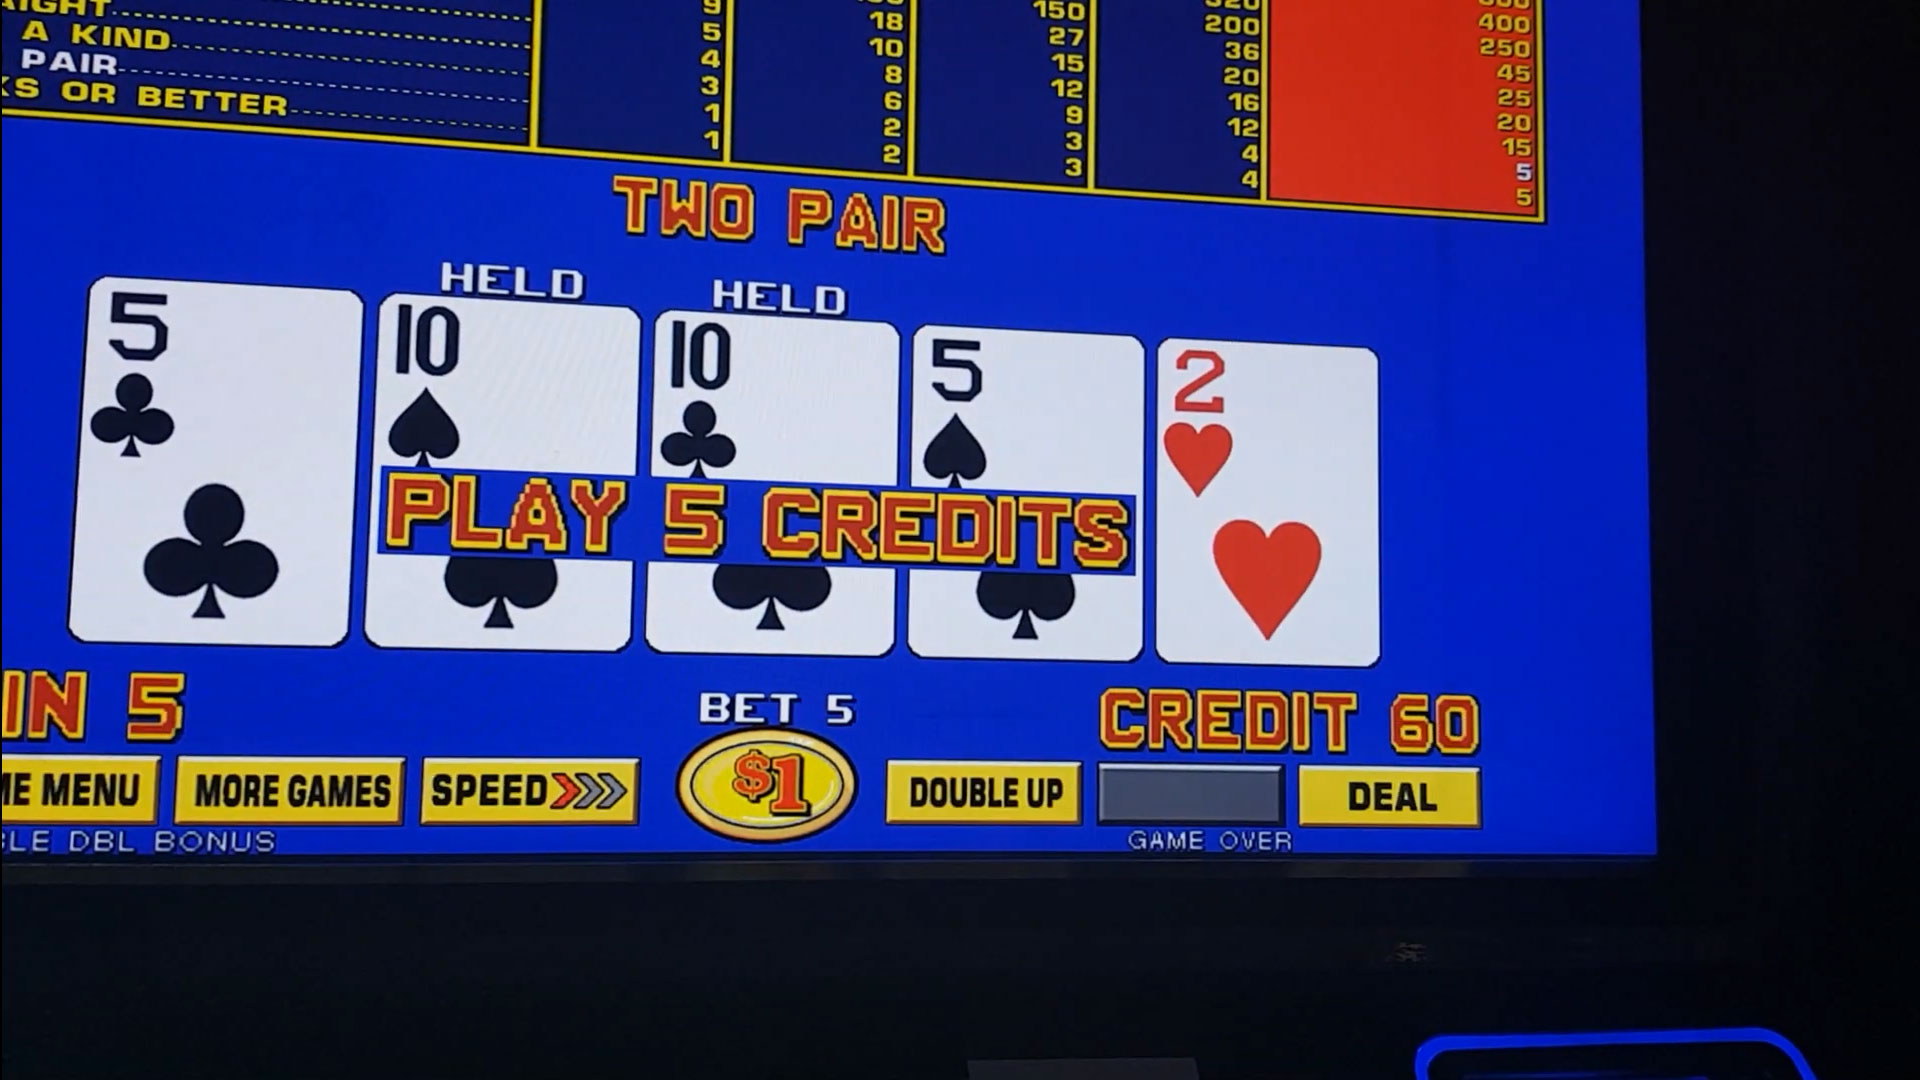C5: (88, 295, 353, 465)
CT: (382, 309, 628, 463), (659, 328, 891, 469)
H2: (1167, 352, 1370, 506)
S5: (918, 339, 1134, 483)
